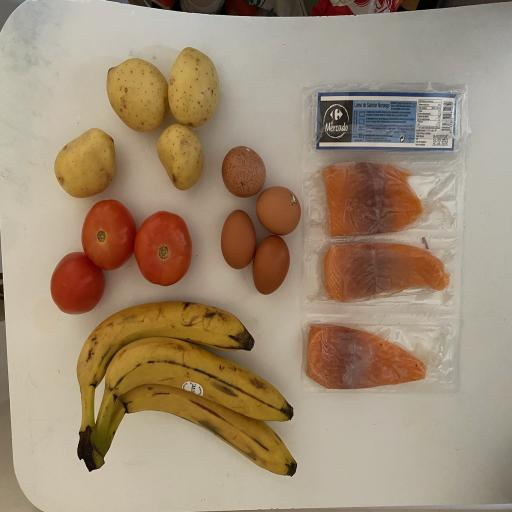banana: (71, 292, 260, 468), (78, 332, 296, 464), (82, 378, 304, 482)
egg: (250, 232, 293, 300), (218, 205, 258, 278), (252, 182, 304, 238), (218, 142, 268, 200)
potato: (102, 55, 172, 136), (50, 122, 120, 202), (167, 42, 222, 128), (155, 119, 207, 195)
salmon: (301, 318, 434, 396), (318, 157, 427, 241), (319, 238, 455, 304)
tomato: (133, 207, 194, 290), (80, 198, 139, 272), (48, 248, 108, 319)
